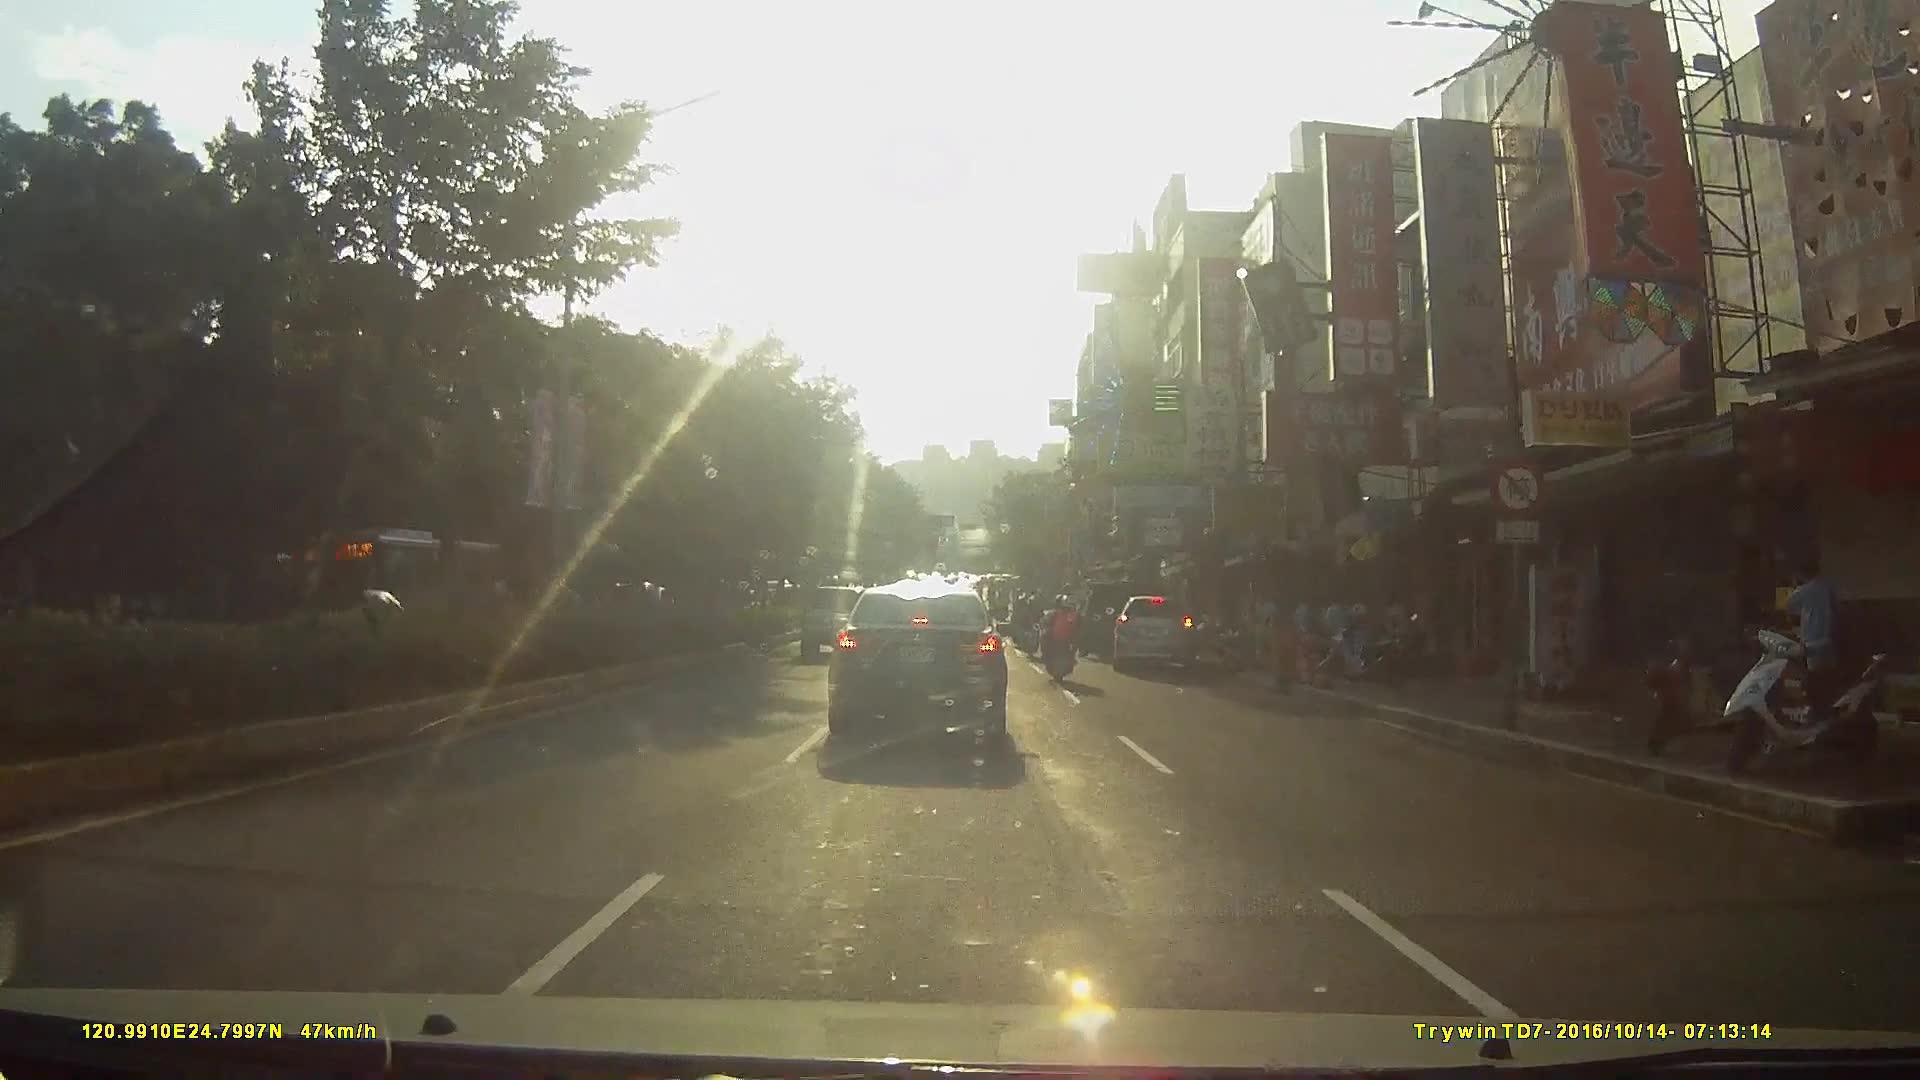pedestrian: (1779, 562, 1835, 731)
rider: (1046, 602, 1090, 699), (1017, 598, 1043, 662)
vehicle: (825, 588, 1031, 762), (286, 535, 509, 658), (1116, 598, 1207, 683)
